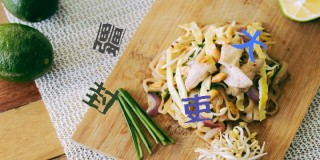吏: (181, 93, 214, 124)
大: (232, 29, 267, 61)
封: (83, 81, 120, 115)
疆: (91, 22, 126, 58)
